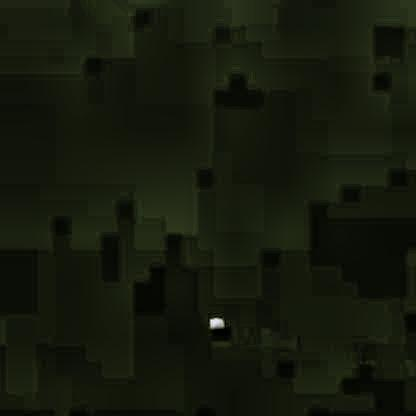golfball: (206, 313, 223, 328)
